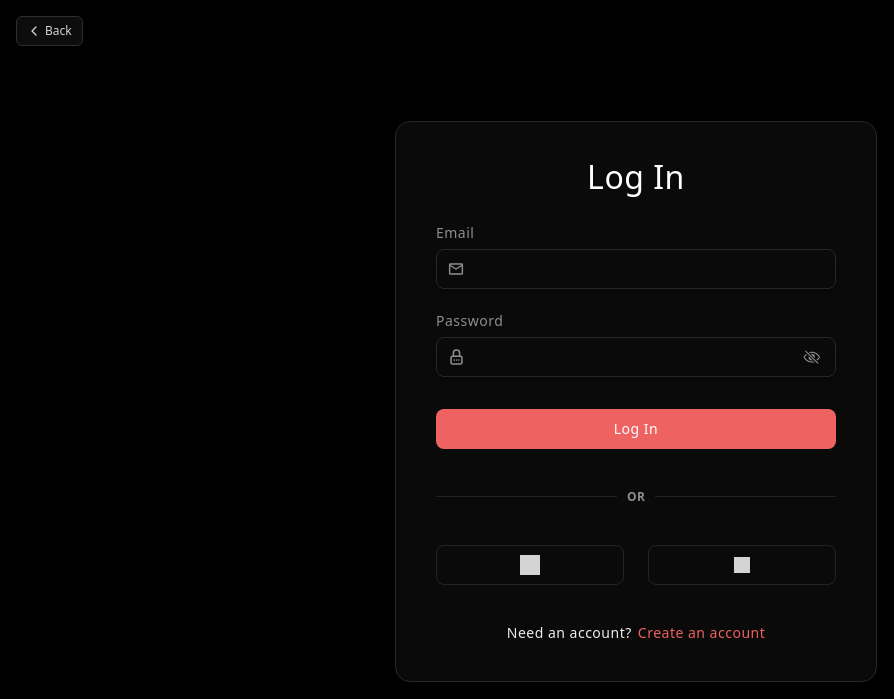
Test: LogInContainer › toggles password visibility via the eye button
Click the button named "Show characters". click: (813, 357)
box: [803,348,823,365]
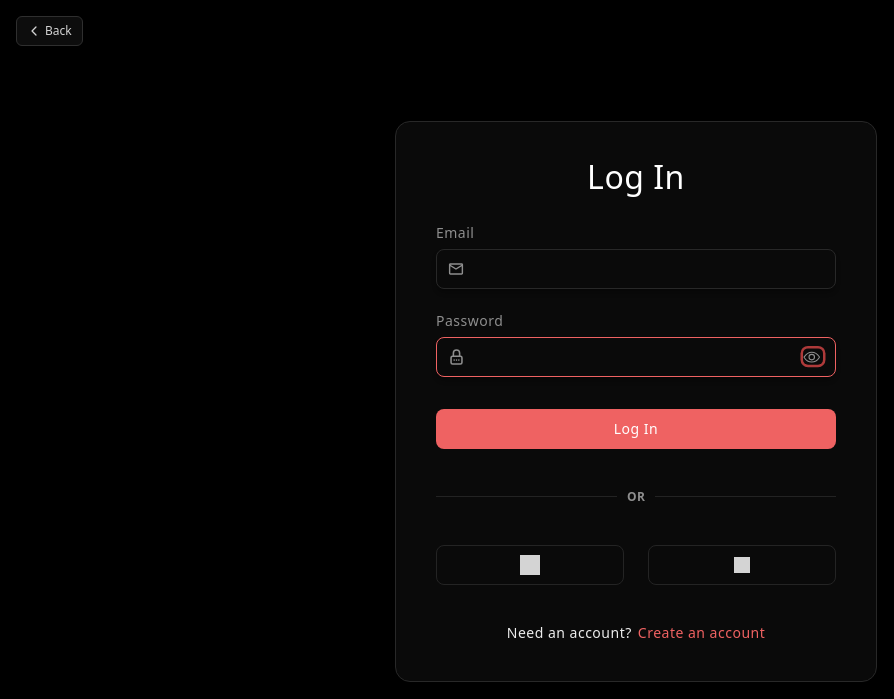
Now the button named "hide password" is shown, box [803,348,823,365]
